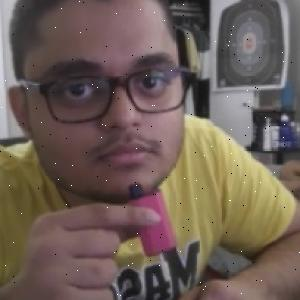Blume-E-Ciggirate: (129, 180, 178, 256)
